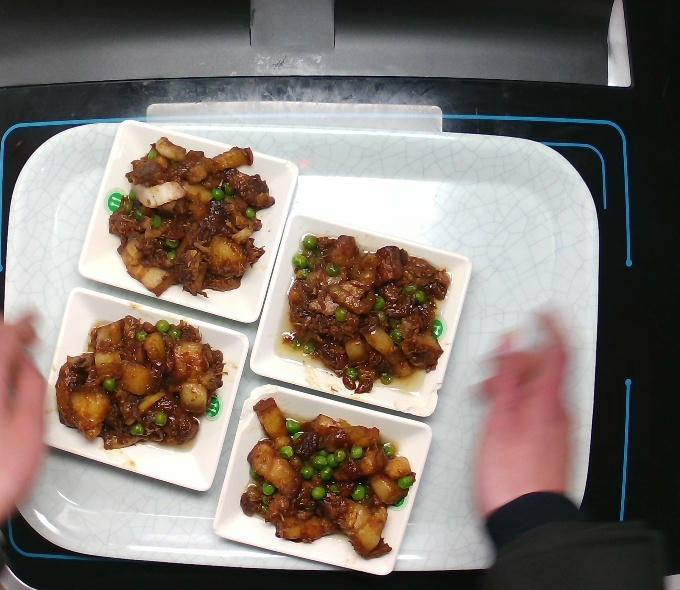wcq-JiangRou: (234, 395, 421, 566), (271, 229, 457, 397), (101, 132, 279, 303), (48, 312, 233, 457)
